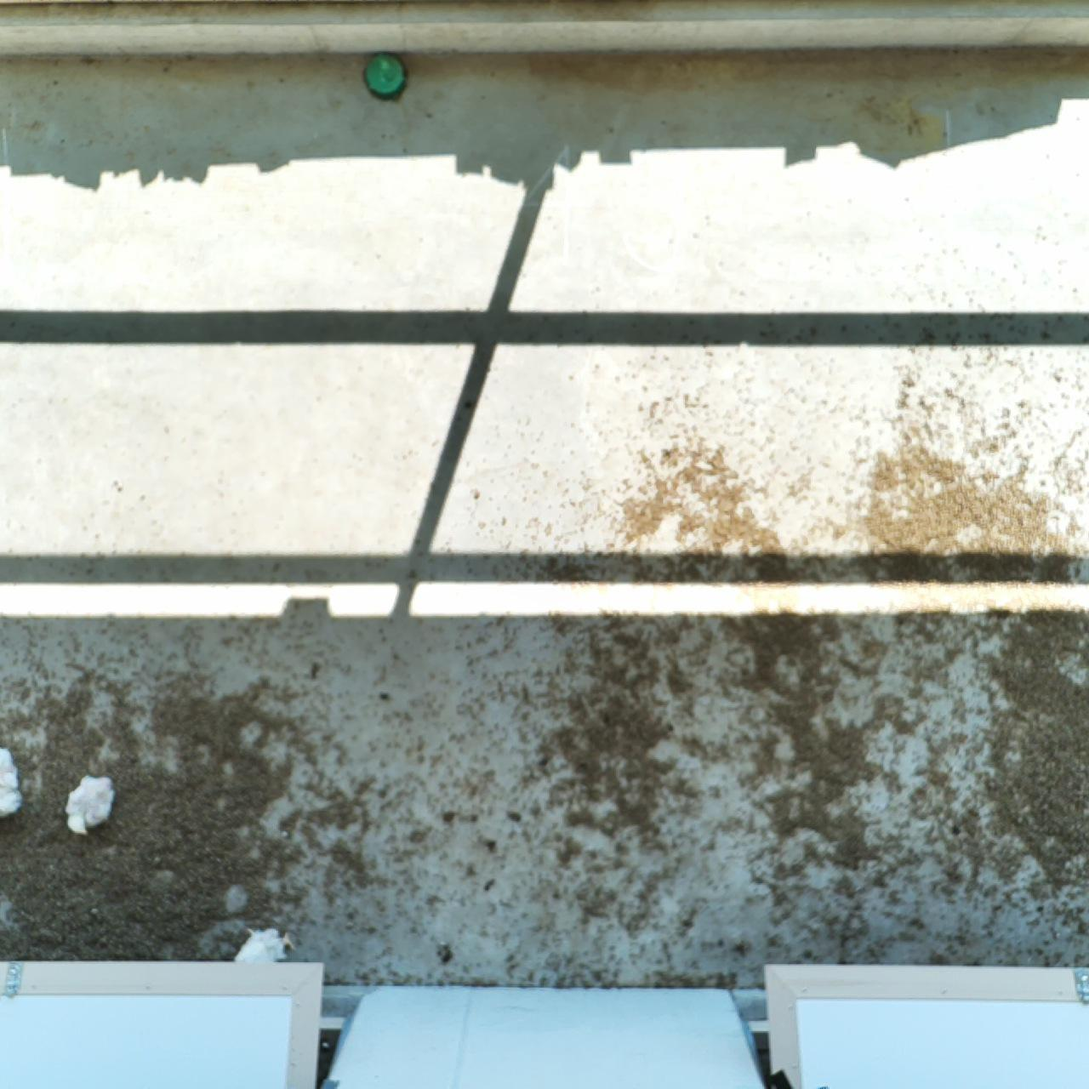chicken: (225, 925, 296, 992), (61, 773, 116, 835), (0, 740, 23, 820)
